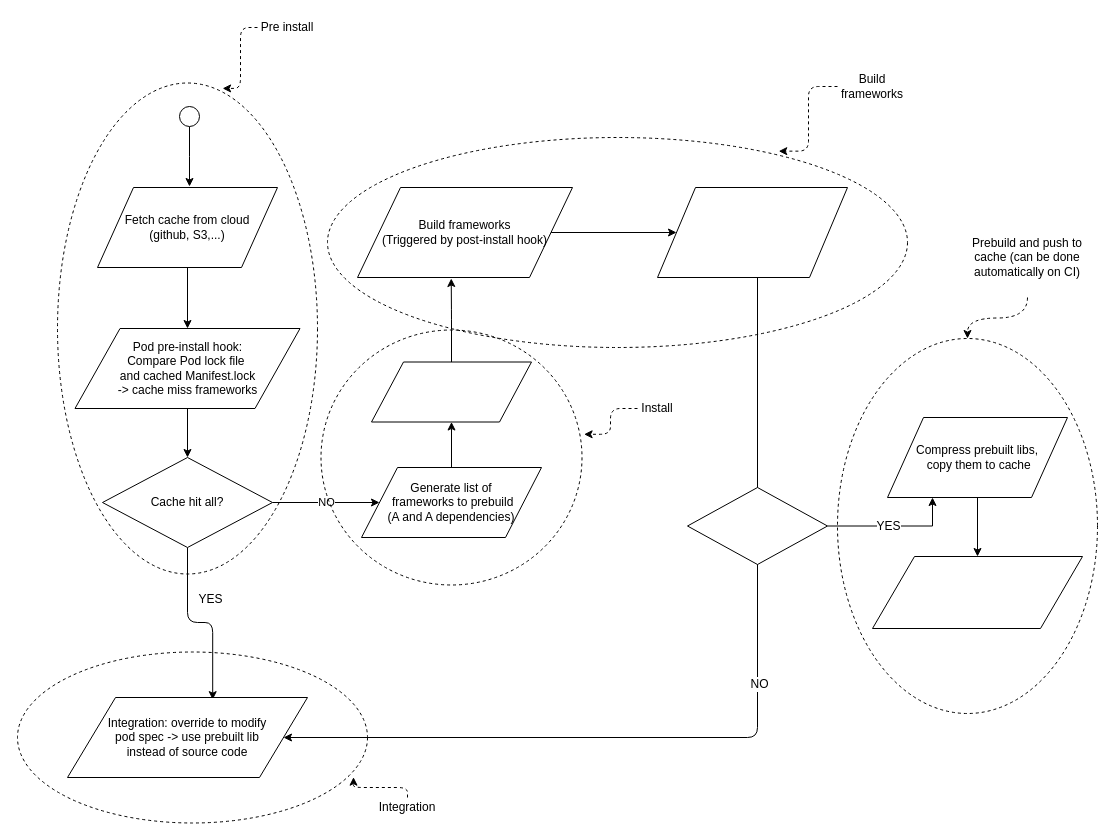
The diagram is 1115 pixels wide and 840 high, and some of its shapes have lost their labels. The centre of each missing label's shape, as x and y in pixels:
"Create a new Pod sandbox and install" goes at (451,391).
"Generate Diff and save (list of updated frameworks)" goes at (752,232).
"Is prebuild job" goes at (757,525).
"Push to cache on git or S3, FTP server ..." goes at (977,592).
